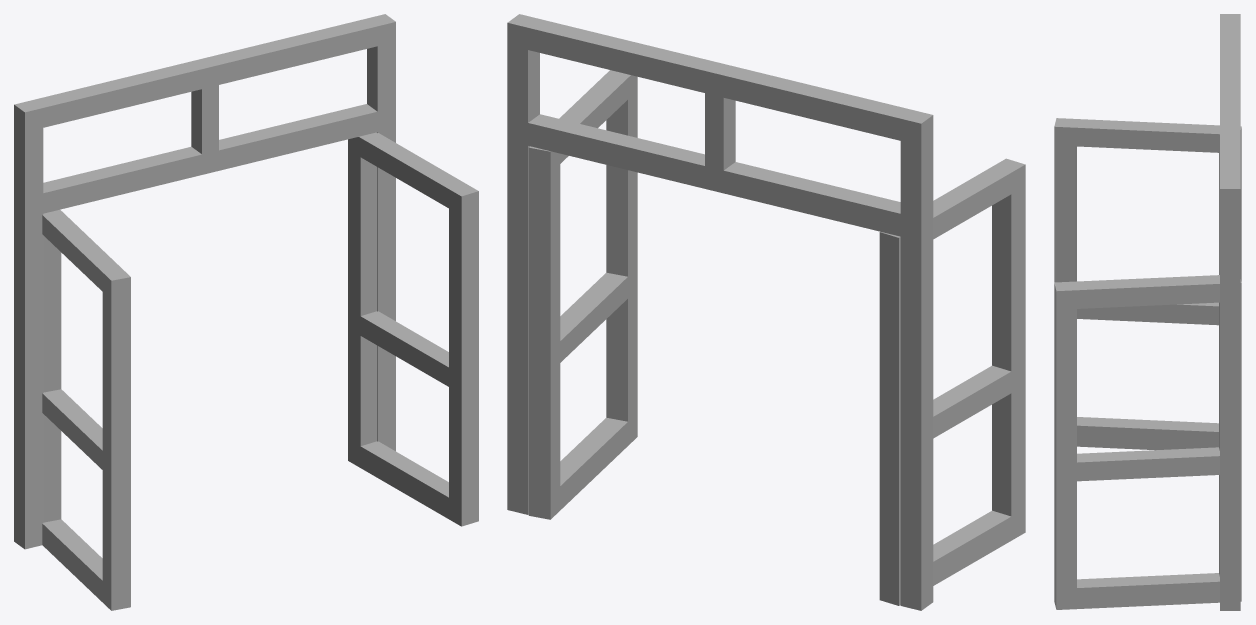
The model's file is doubleDoor.glb.
The picture shows the model from 3 angles, left to right: view 1: azimuth 30°, elevation 25°; view 2: azimuth 150°, elevation 25°; view 3: azimuth 270°, elevation 25°; orthographic projection. The views are drawn at different scales.
Visible parts, largest first — view 1: door.002; view 2: door.002; view 3: door.002.
Part boxes in pixels (left/top/right/bottom): door.002: left=14, top=14, right=478, bottom=610; door.002: left=507, top=14, right=1025, bottom=610; door.002: left=1054, top=14, right=1241, bottom=610.
Bounding box in the file's own units: 8 × 9 × 3.62.
1 material, 1 textured.
